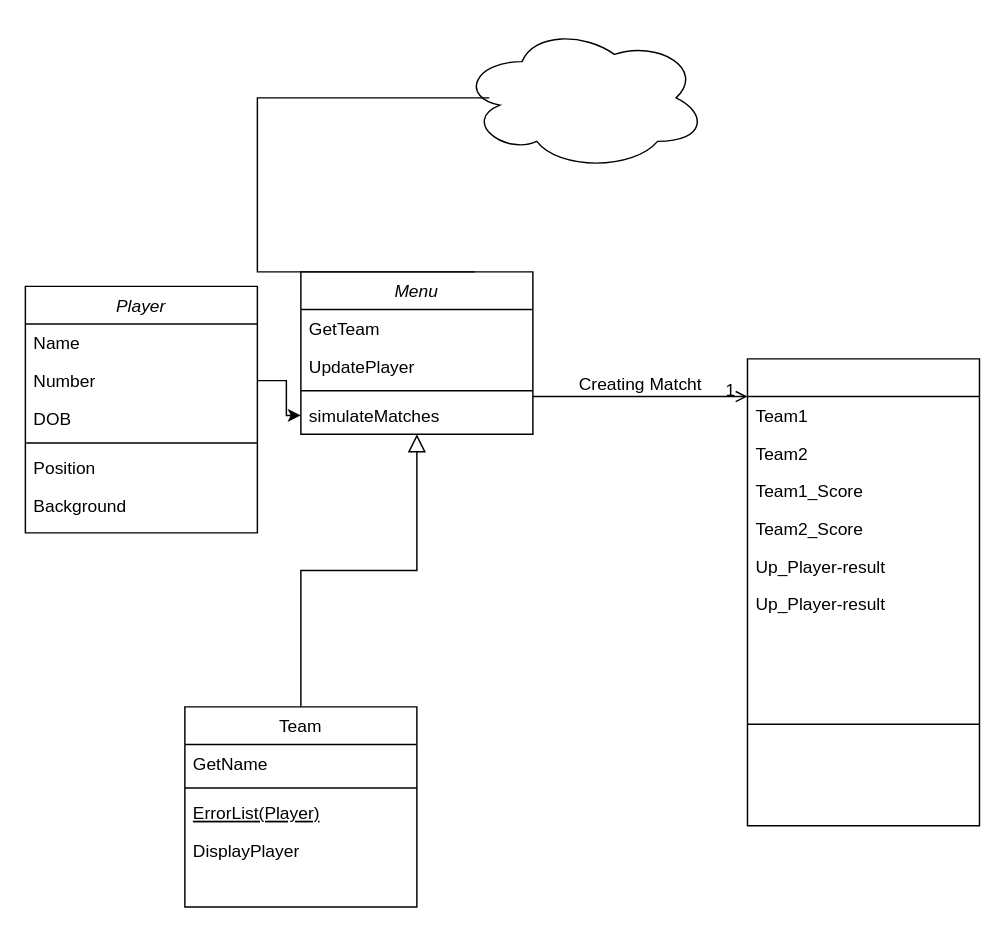
The diagram is 1005 pixels wide and 932 high, and some of its shapes have lost their labels. The box of each missing label's shape, as (x1, y1, x2, y2) in pixels:
Match: (746, 357, 979, 826)
SoccerSimulator_Lab: (459, 24, 707, 170)
